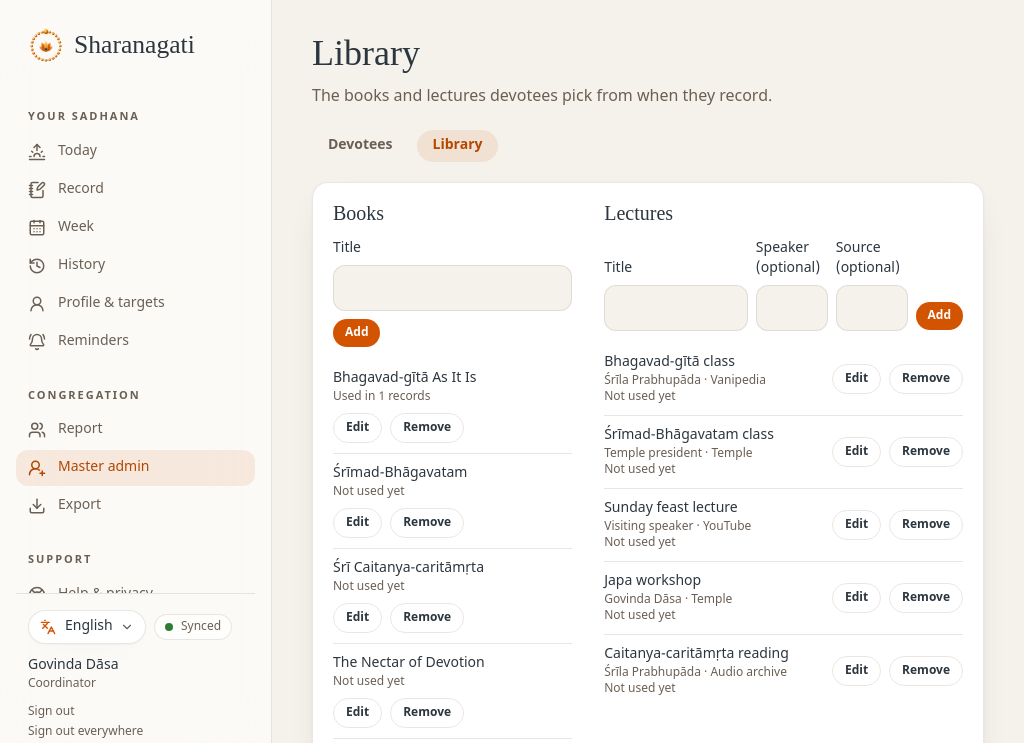
Test: LibraryManager › keeps a book that records point at and says how many
Expected: the text "Used in 1 records" is shown, [333, 389, 430, 405]
Click the button "Remove" below "Used in 1 records".
click(427, 428)  # box [390, 413, 464, 443]
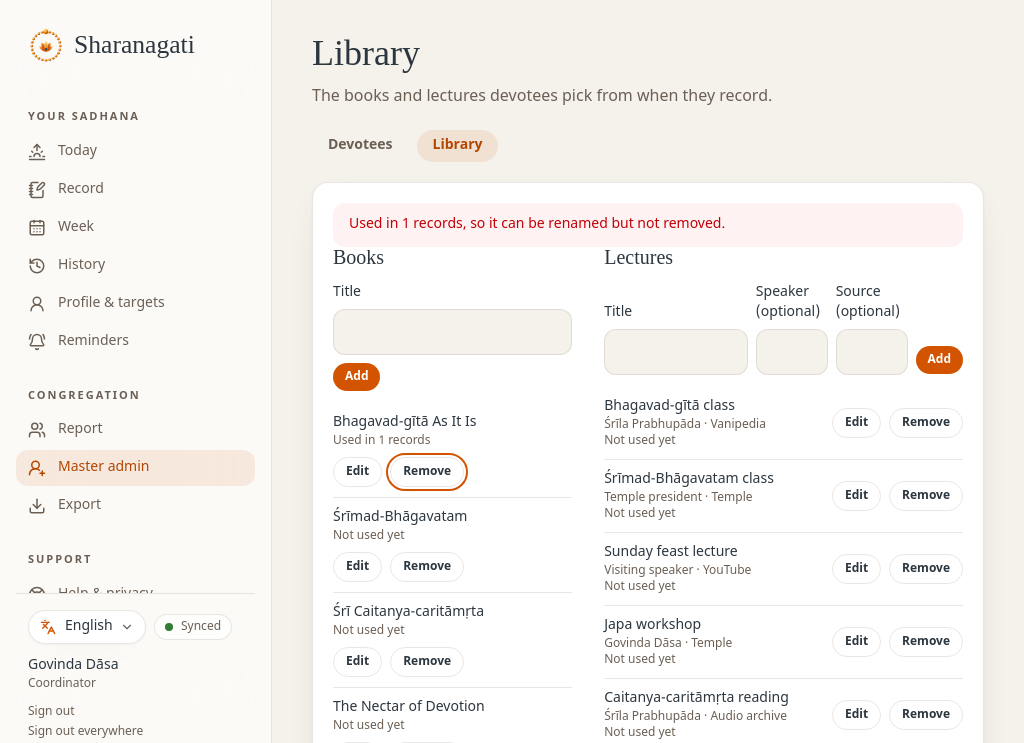
Expected: the text "Bhagavad-gītā As It Is" is shown, [333, 413, 476, 432]
Expected: the message "Used in 1 records, so it can be renamed but not removed." reads "Used in 1 records, so it can be renamed but not removed.", [349, 215, 725, 234]
